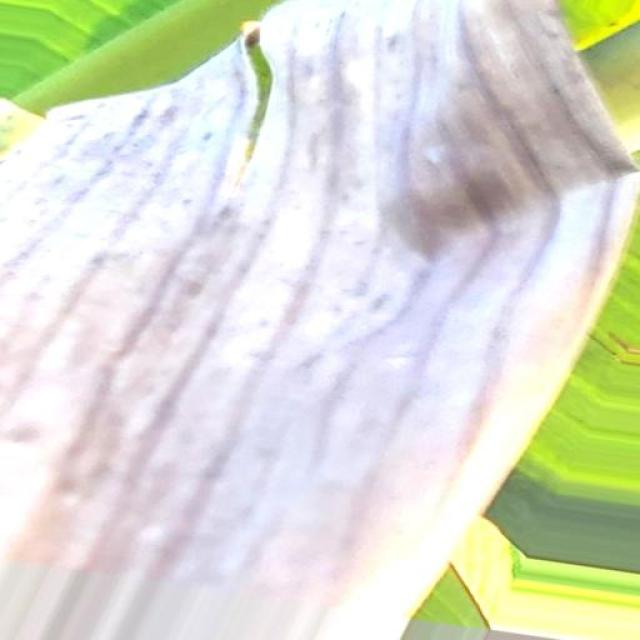Bract_mosaic_virus: (141, 0, 640, 590), (0, 95, 435, 640)
